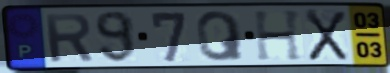7: (149, 9, 191, 64)
9: (93, 9, 137, 65)
H: (251, 8, 305, 63)
Q: (194, 9, 247, 63)
R: (41, 12, 96, 64)
X: (303, 8, 350, 63)
